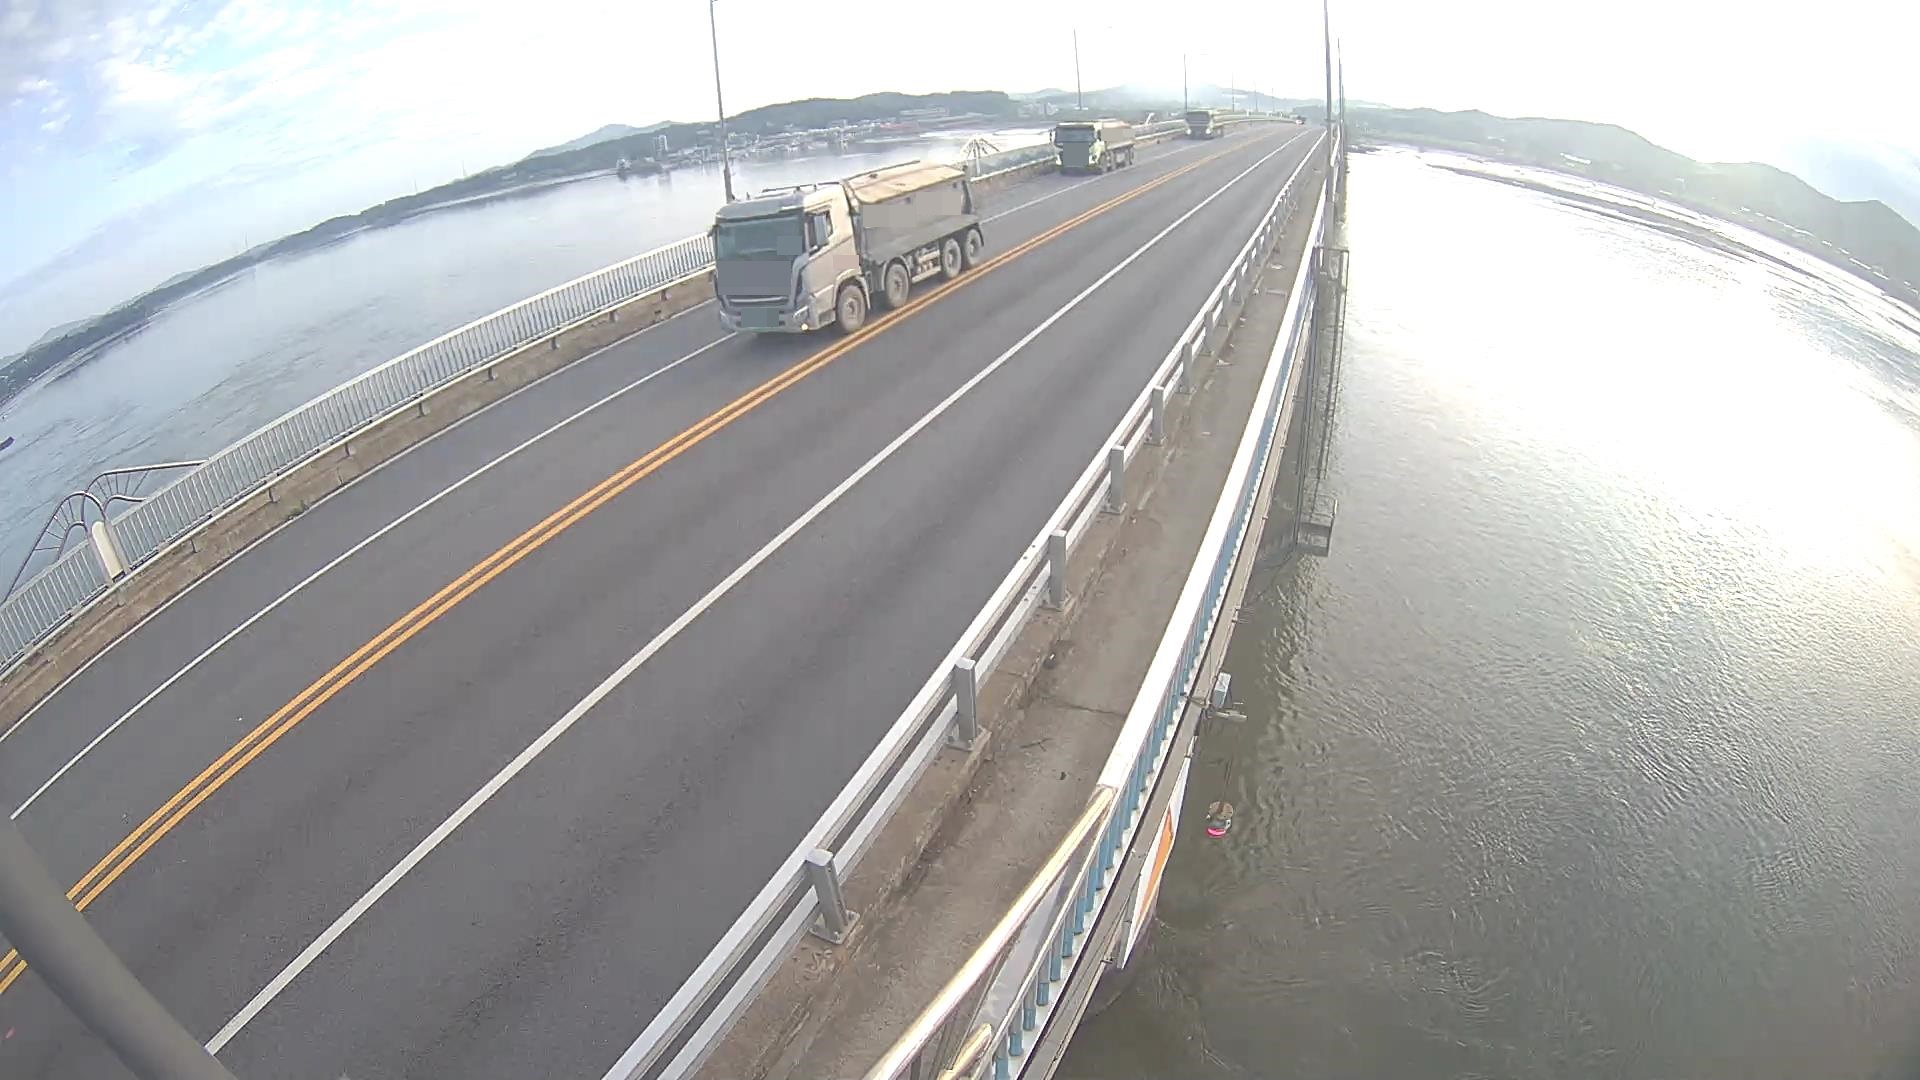정상차량: (707, 160, 984, 334)
